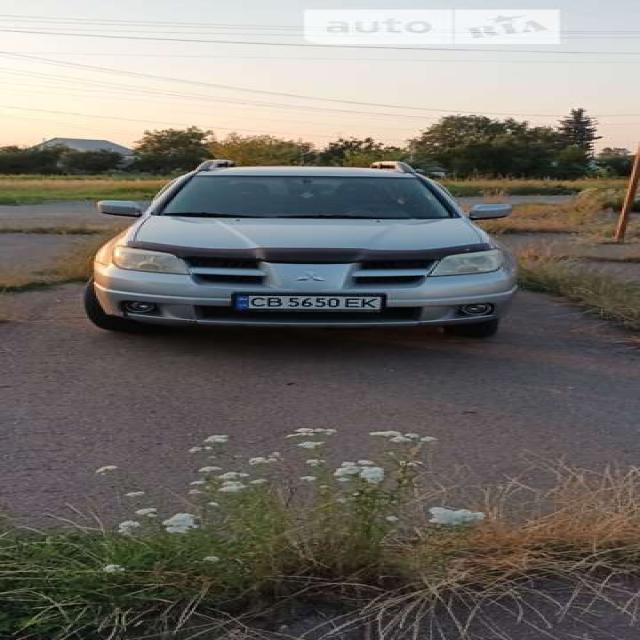plate: (231, 288, 395, 316)
